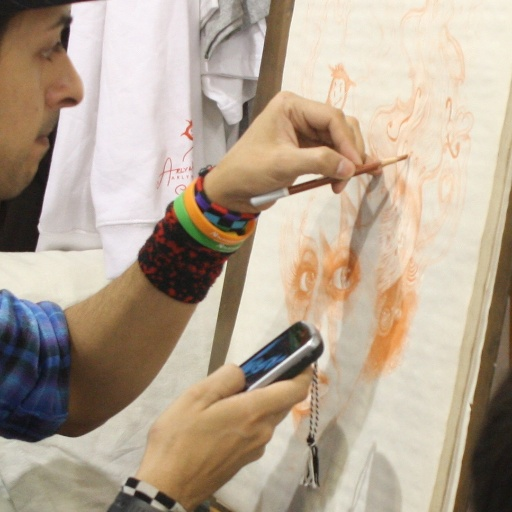hand: (134, 360, 315, 511), (208, 86, 382, 211)
